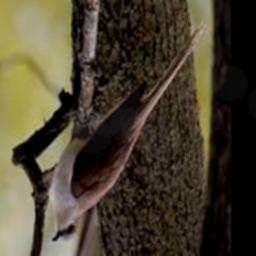Cuckoo: (51, 20, 207, 243)
